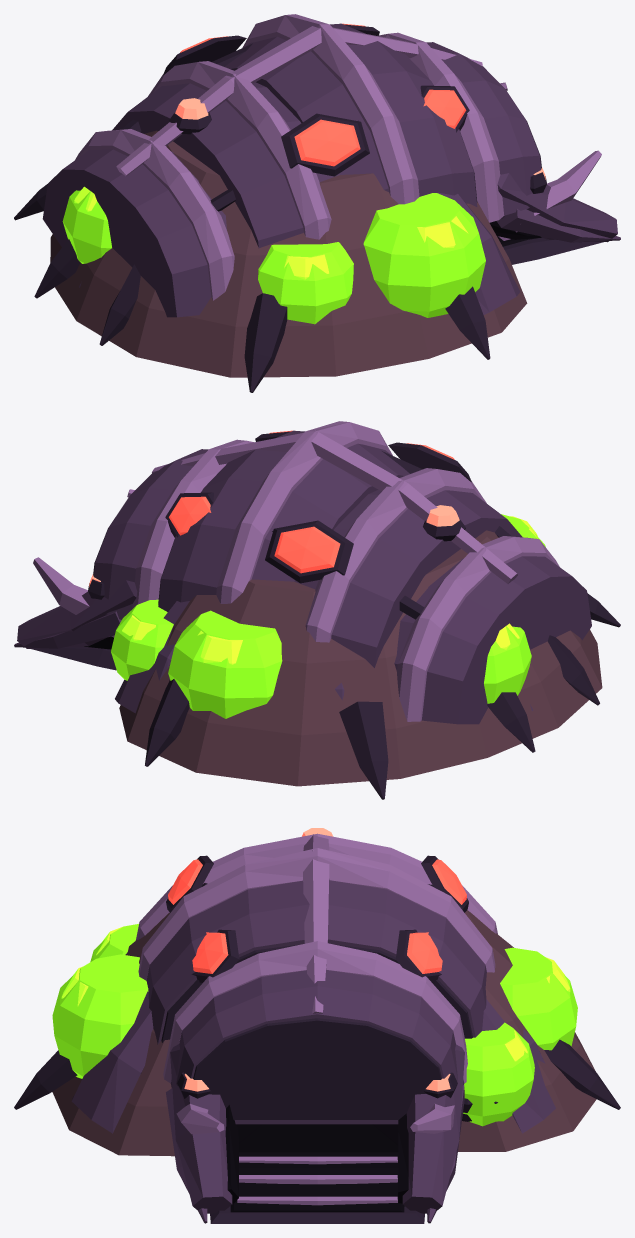
File: bile_warren.glb
The picture shows the model from 3 angles, top to bottom: view 1: azimuth 30°, elevation 25°; view 2: azimuth 150°, elevation 25°; view 3: azimuth 270°, elevation 25°; orthographic projection. The views are drawn at different scales.
Visible parts, largest first — view 1: CarapaceHood, WarrenBase, AcidSac_RightMain, AcidSac_RightRear, AcidSac_Rear, Surf_TEAM_FlankR, Surf_TEAM_BrowR, Surf_GLOW_Dorsal; view 2: CarapaceHood, WarrenBase, AcidSac_LeftMain, AcidSac_LeftFront, AcidSac_Rear, Surf_TEAM_FlankL, Surf_TEAM_BrowL, Surf_GLOW_Dorsal; view 3: CarapaceHood, WarrenBase, AcidSac_RightMain, AcidSac_LeftFront, AcidSac_LeftMain, Surf_TEAM_BrowR, Surf_TEAM_BrowL, AcidSac_RightRear, Surf_TEAM_FlankR, Surf_TEAM_FlankL.
Part boxes in pixels (x1,y1,x2,y2): CarapaceHood: [42, 14, 541, 317]; WarrenBase: [14, 82, 620, 392]; AcidSac_RightMain: [363, 193, 485, 317]; AcidSac_RightRear: [258, 242, 353, 324]; AcidSac_Rear: [62, 186, 111, 263]; Surf_TEAM_FlankR: [294, 119, 360, 166]; Surf_TEAM_BrowR: [423, 89, 466, 128]; Surf_GLOW_Dorsal: [175, 98, 208, 119]; CarapaceHood: [93, 421, 591, 724]; WarrenBase: [14, 489, 620, 799]; AcidSac_LeftMain: [168, 610, 282, 718]; AcidSac_LeftFront: [111, 599, 173, 680]; AcidSac_Rear: [484, 623, 531, 703]; Surf_TEAM_FlankL: [274, 526, 340, 573]; Surf_TEAM_BrowL: [169, 496, 211, 535]; Surf_GLOW_Dorsal: [426, 505, 459, 526]; CarapaceHood: [135, 833, 497, 1124]; WarrenBase: [14, 910, 620, 1223]; AcidSac_RightMain: [52, 954, 148, 1078]; AcidSac_LeftFront: [463, 1022, 534, 1126]; AcidSac_LeftMain: [500, 947, 577, 1050]; Surf_TEAM_BrowR: [192, 932, 228, 973]; Surf_TEAM_BrowL: [407, 932, 442, 973]; AcidSac_RightRear: [90, 924, 138, 961]; Surf_TEAM_FlankR: [168, 859, 202, 904]; Surf_TEAM_FlankL: [432, 859, 466, 904].
Size of the model in its own units: 7.28 by 3.3 by 7.28.
